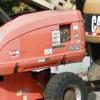Tractor: (8, 1, 100, 100)
